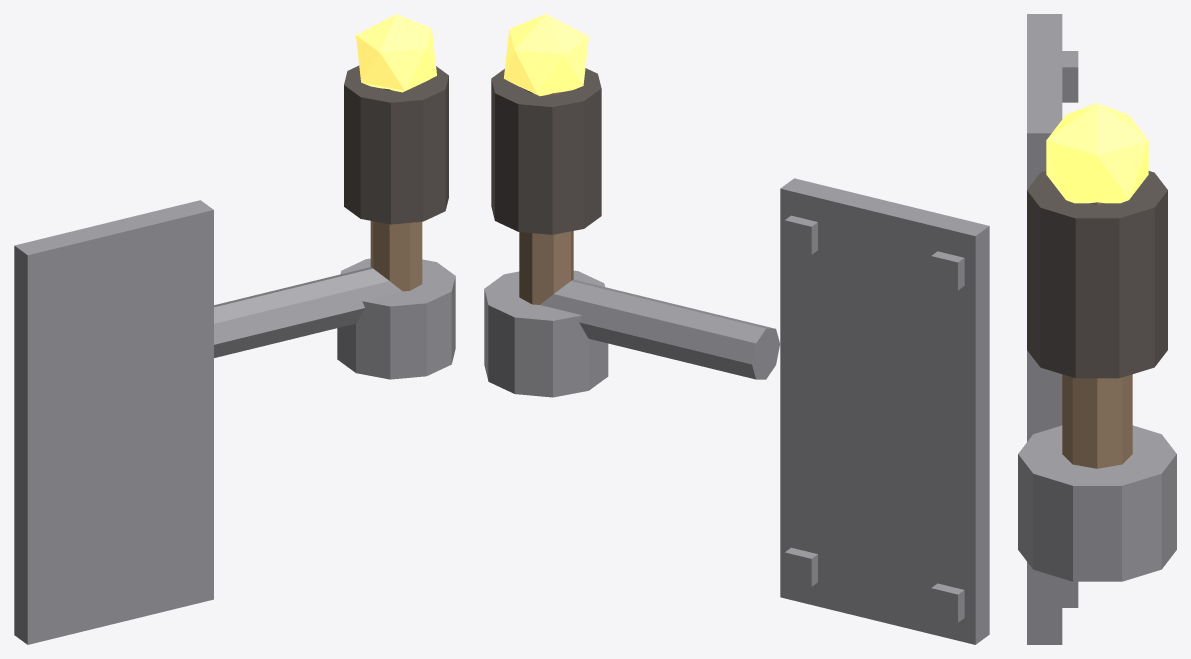
File: 25-Ruinas-Templos_antorcha_pared.glb
The picture shows the model from 3 angles, left to right: view 1: azimuth 30°, elevation 25°; view 2: azimuth 150°, elevation 25°; view 3: azimuth 270°, elevation 25°; orthographic projection. The views are drawn at different scales.
Parts seen in each view (by area): view 1: SM_AntorchaP_M_Hierro_AntorchaP, SM_AntorchaP_M_Tela_AntorchaP, SM_AntorchaP_M_Brasa_AntorchaP, SM_AntorchaP_M_Madera_AntorchaP; view 2: SM_AntorchaP_M_Hierro_AntorchaP, SM_AntorchaP_M_Tela_AntorchaP, SM_AntorchaP_M_Brasa_AntorchaP, SM_AntorchaP_M_Madera_AntorchaP; view 3: SM_AntorchaP_M_Hierro_AntorchaP, SM_AntorchaP_M_Tela_AntorchaP, SM_AntorchaP_M_Brasa_AntorchaP, SM_AntorchaP_M_Madera_AntorchaP.
Part boxes in pixels (bbox=[...]): SM_AntorchaP_M_Hierro_AntorchaP: bbox=[14, 200, 455, 644]; SM_AntorchaP_M_Tela_AntorchaP: bbox=[344, 65, 448, 224]; SM_AntorchaP_M_Brasa_AntorchaP: bbox=[356, 14, 436, 92]; SM_AntorchaP_M_Madera_AntorchaP: bbox=[370, 83, 422, 291]; SM_AntorchaP_M_Hierro_AntorchaP: bbox=[484, 178, 989, 644]; SM_AntorchaP_M_Tela_AntorchaP: bbox=[491, 68, 601, 234]; SM_AntorchaP_M_Brasa_AntorchaP: bbox=[504, 14, 588, 96]; SM_AntorchaP_M_Madera_AntorchaP: bbox=[519, 87, 573, 304]; SM_AntorchaP_M_Hierro_AntorchaP: bbox=[1018, 14, 1176, 644]; SM_AntorchaP_M_Tela_AntorchaP: bbox=[1027, 171, 1167, 378]; SM_AntorchaP_M_Brasa_AntorchaP: bbox=[1046, 103, 1148, 203]; SM_AntorchaP_M_Madera_AntorchaP: bbox=[1062, 202, 1132, 468].
Bounding box in the file's own units: 0.3828 × 0.4228 × 0.09.
